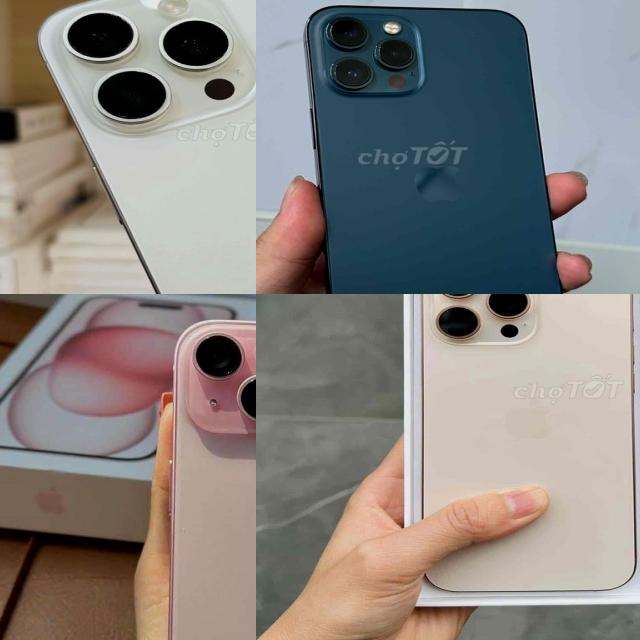gen_12_13: (293, 5, 575, 294)
gen_15: (25, 0, 256, 294), (151, 308, 256, 640)
gen_16: (410, 294, 640, 607)
